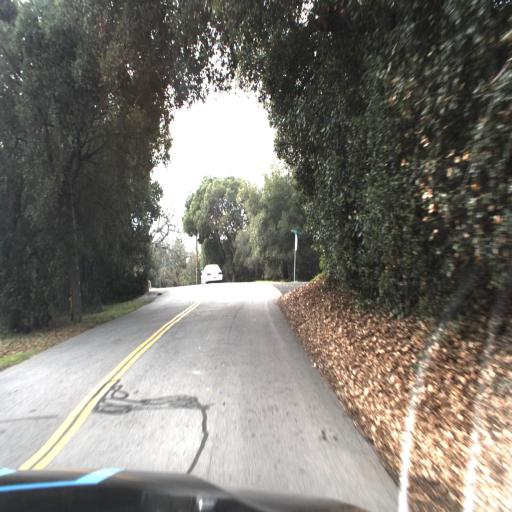car: (197, 258, 226, 291)
